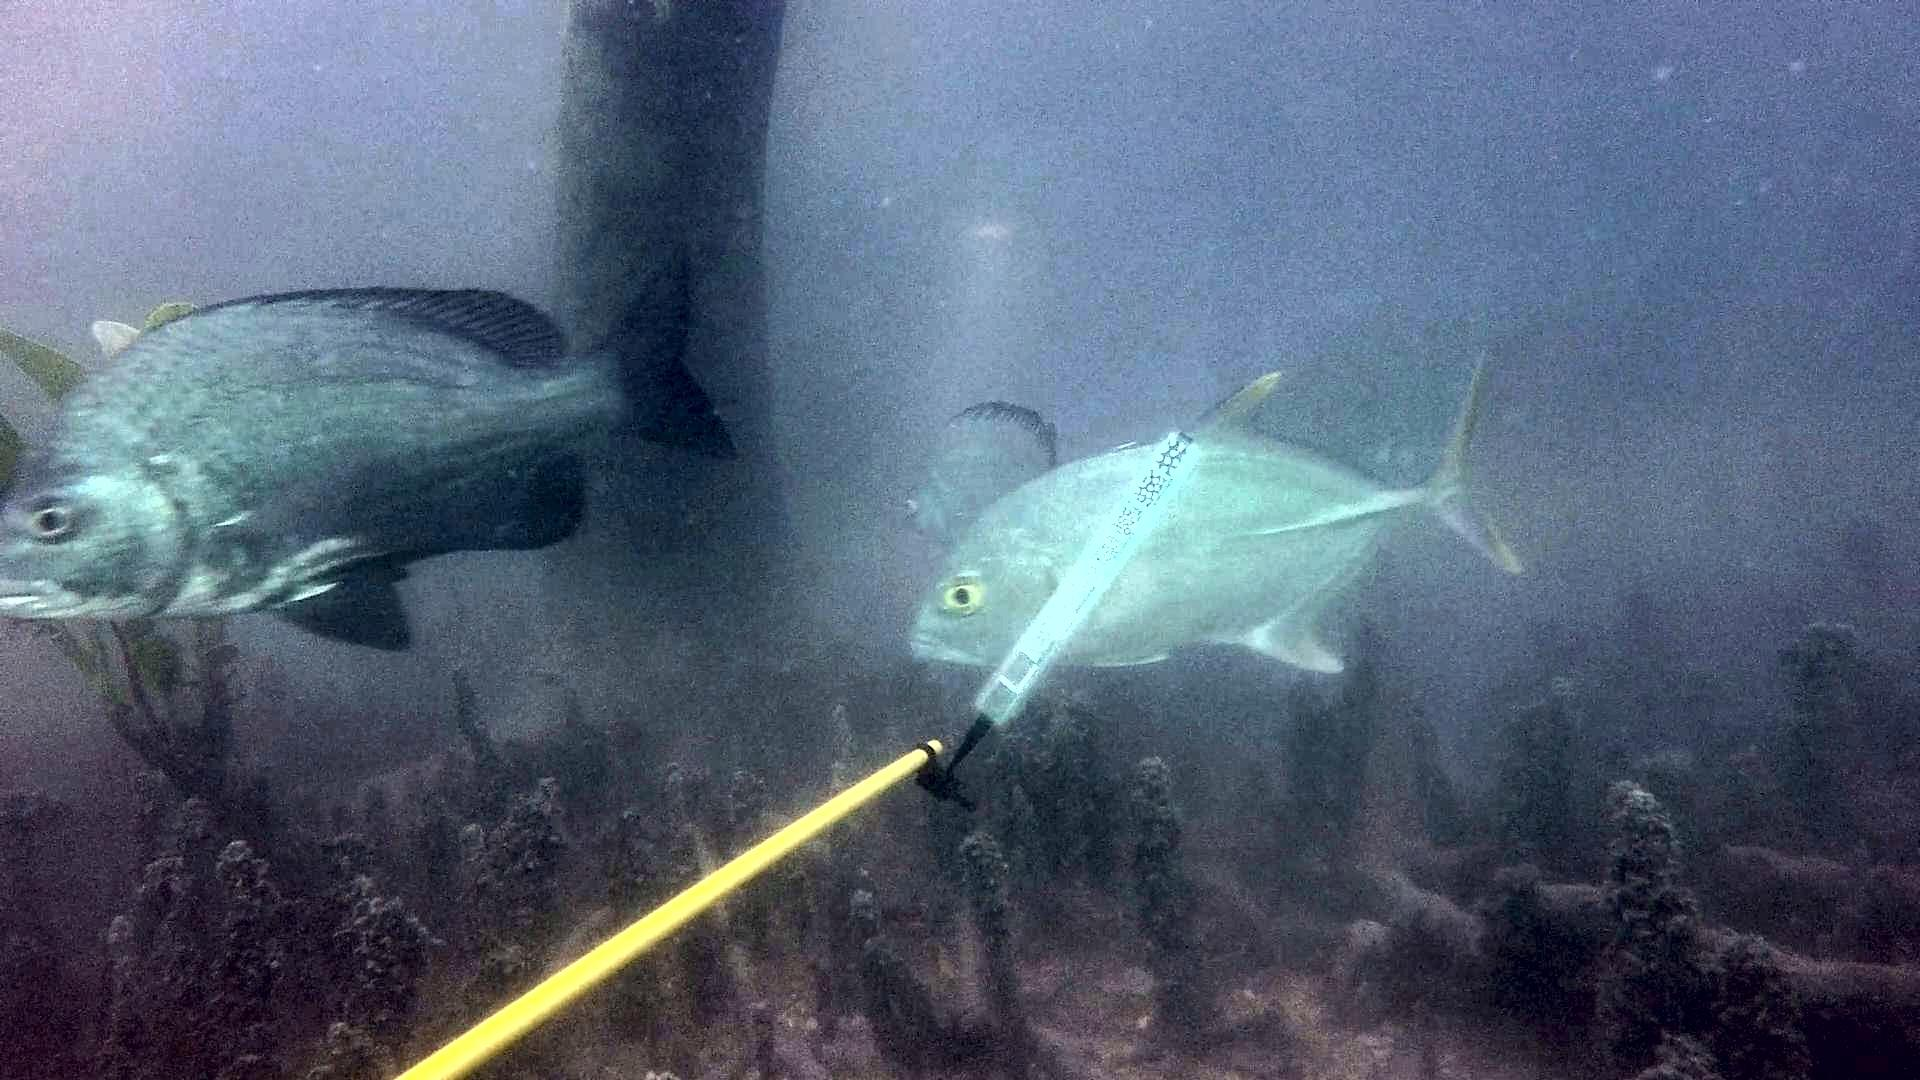acanthopagrus palmaris: (0, 222, 761, 658)
caranx: (898, 331, 1547, 691)
